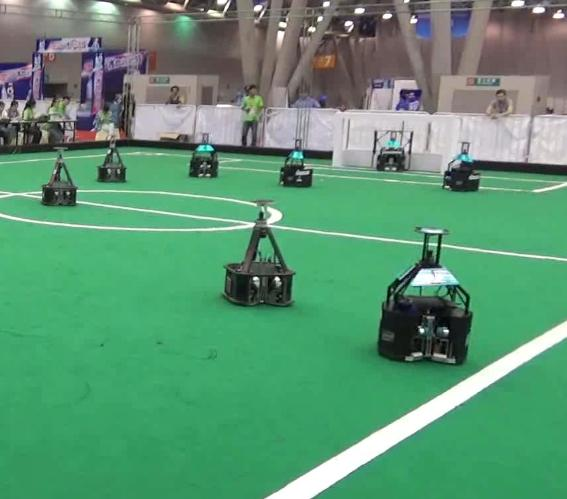robot: (378, 217, 475, 368), (221, 192, 295, 312)
